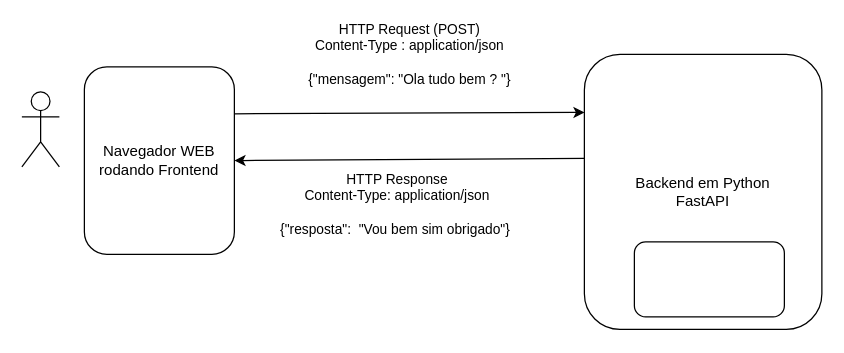
This 844x353 diagram has some shape labels left out. Here are the shapes that lost their labels. From the top down, the centre of each, then its label:
(40,129): Actor
(708,279): Chatbot
